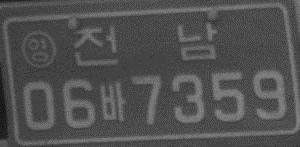0: (22, 80, 55, 131)
3: (171, 73, 205, 125)
5: (211, 70, 245, 123)
6: (61, 78, 96, 128)
7: (130, 75, 162, 125)
9: (252, 69, 288, 121)
바: (99, 82, 127, 122)
영: (21, 30, 56, 68)
전남_D: (70, 22, 217, 66)
